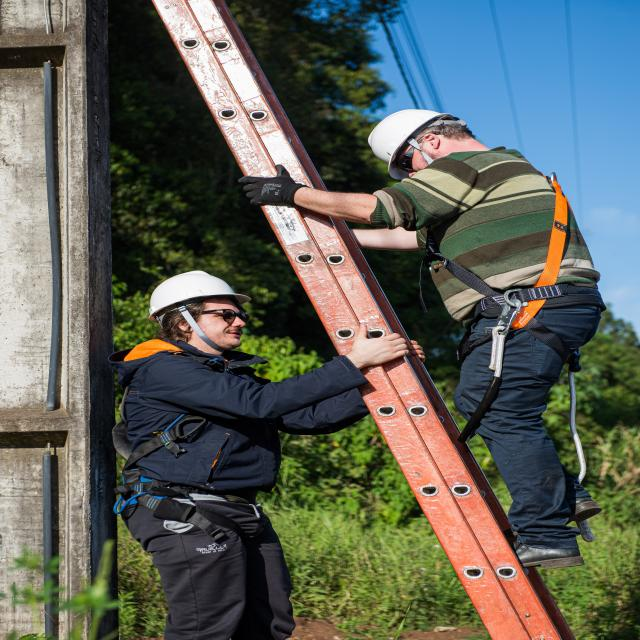capacete: (367, 106, 456, 182)
luva: (234, 164, 309, 210)
